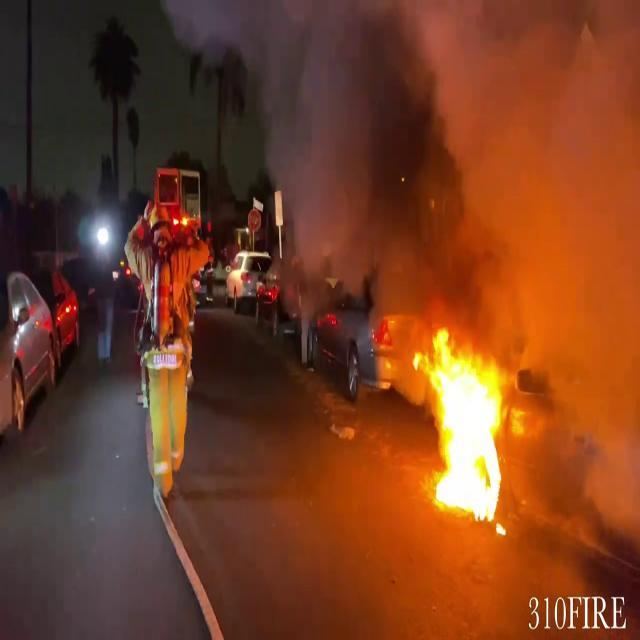Fire: (411, 330, 531, 528)
Smoke: (260, 1, 640, 296)
